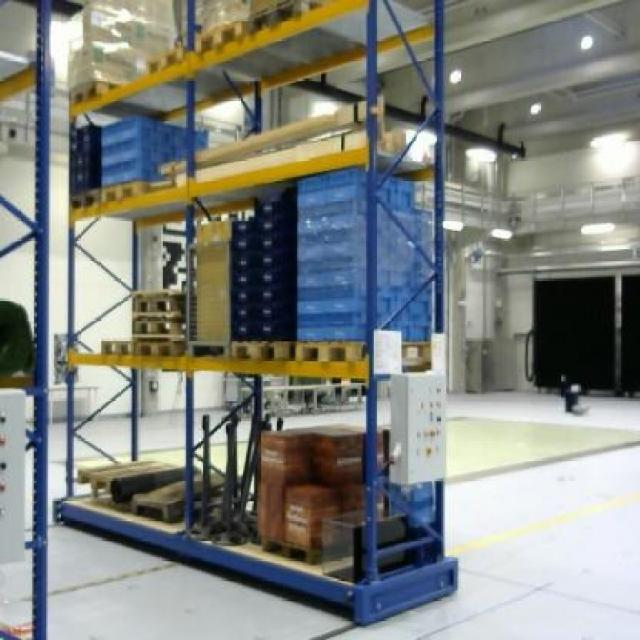box: (66, 8, 176, 77), (192, 215, 232, 340), (284, 484, 338, 553), (257, 478, 291, 556), (260, 429, 312, 477), (315, 424, 363, 473)
